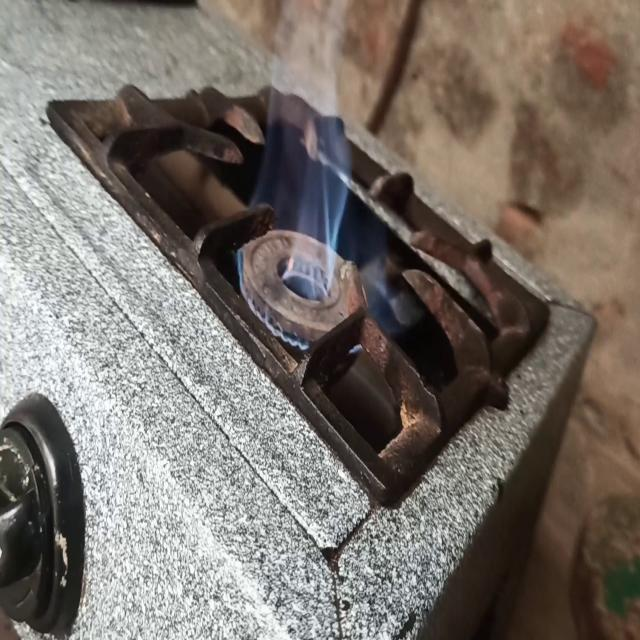Fire: (269, 17, 344, 264)
